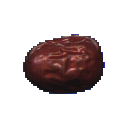gd: (15, 21, 128, 102)
